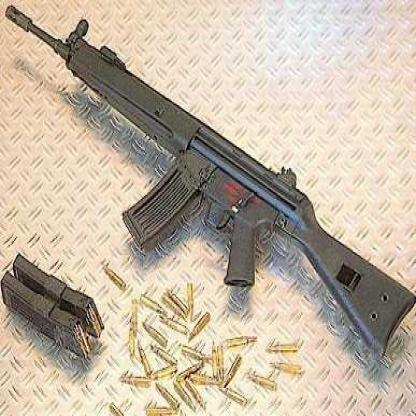Heavy Gun: (0, 0, 416, 359)
